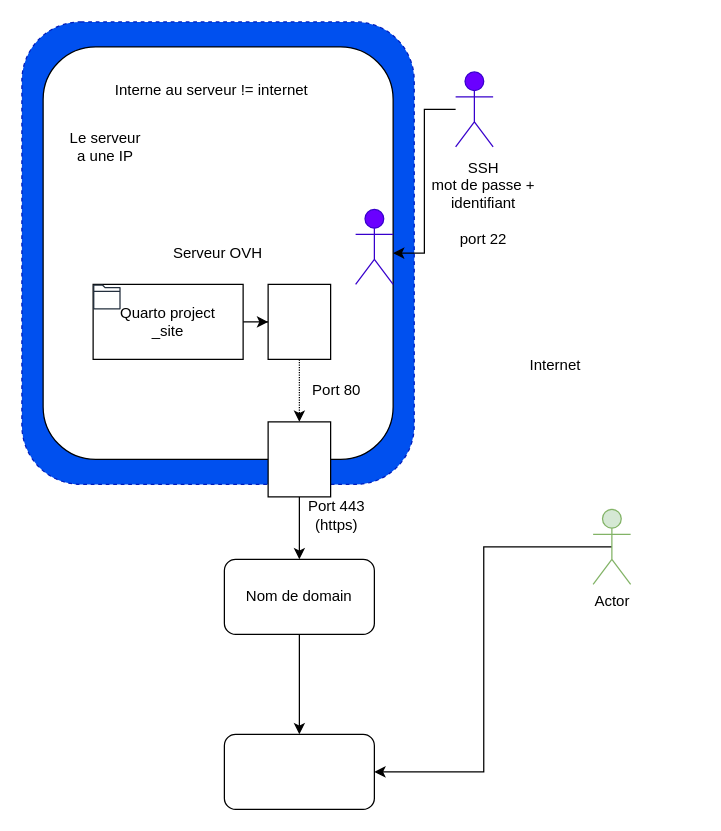
Some shapes in this 721 by 831 pixel diagram are drawn without their labels. Each missing label, with the centre of its shape:
HTTP server != securisé: pixel 299 321
Nginx: pixel 299 459
Site sur internet: pixel 298 771
